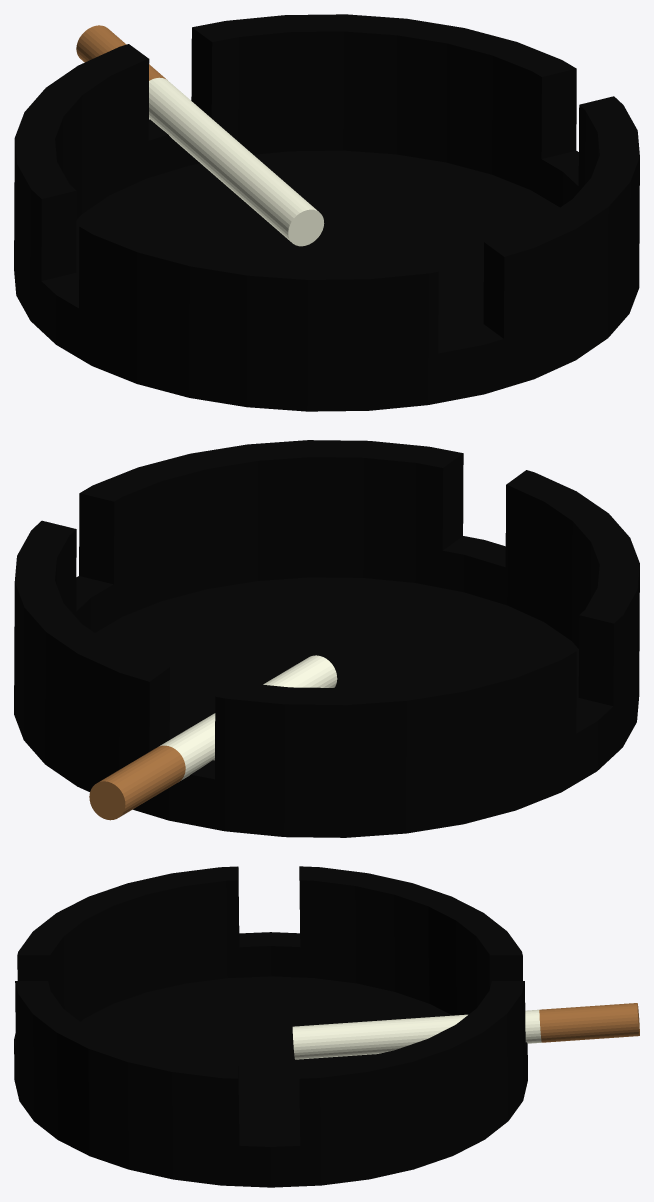
File: ashtray2.glb
The picture shows the model from 3 angles, top to bottom: view 1: azimuth 30°, elevation 25°; view 2: azimuth 150°, elevation 25°; view 3: azimuth 270°, elevation 25°; orthographic projection. The views are drawn at different scales.
Parts seen in each view (by area): view 1: Cylinder; view 2: Cylinder; view 3: Cylinder.
Part boxes in pixels (x1,y1,x2,y2): Cylinder: [14, 14, 639, 411]; Cylinder: [14, 440, 639, 837]; Cylinder: [14, 866, 639, 1187].
Size of the model in its own units: 0.3914 by 0.0916 by 0.4818.
